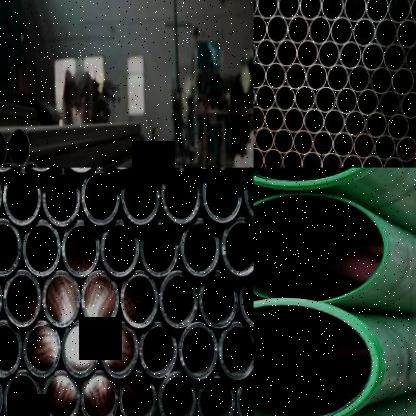pipe: (253, 297, 382, 416), (254, 193, 390, 304), (160, 168, 201, 224), (140, 220, 180, 277), (61, 220, 100, 278), (159, 270, 198, 328), (179, 322, 218, 380), (181, 218, 219, 277), (121, 167, 160, 224), (2, 167, 41, 224), (199, 271, 238, 328), (120, 271, 159, 328), (139, 321, 178, 378), (42, 168, 80, 226), (42, 270, 80, 328), (3, 270, 41, 328), (202, 168, 242, 223), (23, 322, 62, 378), (82, 168, 120, 225), (23, 220, 61, 277), (81, 270, 119, 327), (218, 321, 254, 380), (101, 221, 138, 278), (100, 320, 137, 376), (62, 322, 99, 378), (220, 218, 254, 276), (4, 369, 42, 416), (197, 371, 236, 416), (80, 371, 118, 416), (41, 371, 79, 416), (158, 371, 196, 416), (119, 370, 156, 416), (0, 220, 21, 276), (0, 320, 21, 376), (239, 271, 254, 328), (8, 129, 30, 166), (235, 371, 253, 416), (375, 18, 398, 47), (330, 16, 353, 45), (352, 17, 375, 46), (287, 14, 309, 44), (361, 42, 384, 70), (383, 43, 406, 71), (356, 88, 379, 116), (339, 41, 362, 69), (391, 67, 414, 95), (309, 16, 332, 44), (370, 66, 393, 94), (378, 90, 401, 118), (267, 14, 288, 44), (364, 112, 388, 138), (317, 41, 340, 68), (348, 64, 370, 92), (396, 18, 416, 48), (335, 88, 357, 115), (327, 64, 349, 91), (243, 168, 254, 222), (276, 39, 297, 67), (256, 38, 277, 66), (323, 109, 345, 135), (374, 134, 396, 160), (332, 132, 354, 158), (344, 110, 366, 136), (387, 113, 409, 139), (315, 86, 336, 113), (297, 40, 318, 67), (306, 63, 327, 90), (286, 62, 306, 90), (353, 133, 374, 159), (292, 130, 313, 156), (255, 84, 276, 110), (303, 108, 324, 134), (395, 136, 416, 162), (266, 62, 286, 89), (388, 0, 411, 23), (273, 129, 294, 154), (264, 106, 284, 132), (313, 130, 333, 156), (284, 107, 304, 133), (275, 85, 295, 111), (295, 86, 315, 112), (365, 0, 388, 22), (342, 0, 366, 21), (255, 127, 274, 152), (321, 0, 344, 20), (399, 91, 416, 118), (299, 0, 321, 20), (277, 0, 299, 19), (257, 0, 277, 19), (263, 148, 282, 168), (301, 150, 322, 168), (254, 13, 267, 42), (282, 150, 302, 168), (404, 43, 416, 71), (253, 61, 265, 88), (321, 152, 341, 168), (341, 154, 362, 168), (253, 106, 265, 130), (0, 129, 7, 168), (361, 155, 382, 168), (382, 156, 403, 168), (253, 147, 263, 168), (410, 0, 416, 23), (0, 370, 3, 416), (0, 269, 2, 327), (0, 167, 2, 224)
